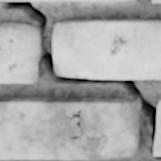brick: (0, 98, 138, 158), (53, 20, 160, 78), (0, 23, 38, 82), (155, 101, 160, 154)
broken_brick: (31, 0, 129, 1)
crack: (0, 0, 160, 159)
